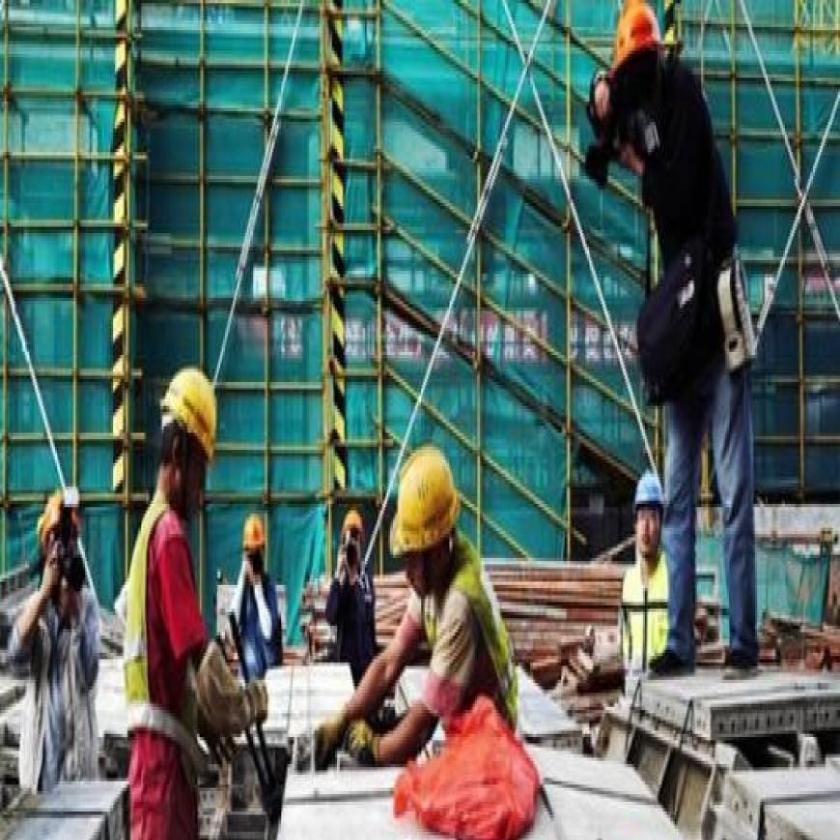Con_casco: (390, 445, 463, 607), (158, 366, 215, 514), (633, 472, 666, 563), (240, 511, 270, 576)
